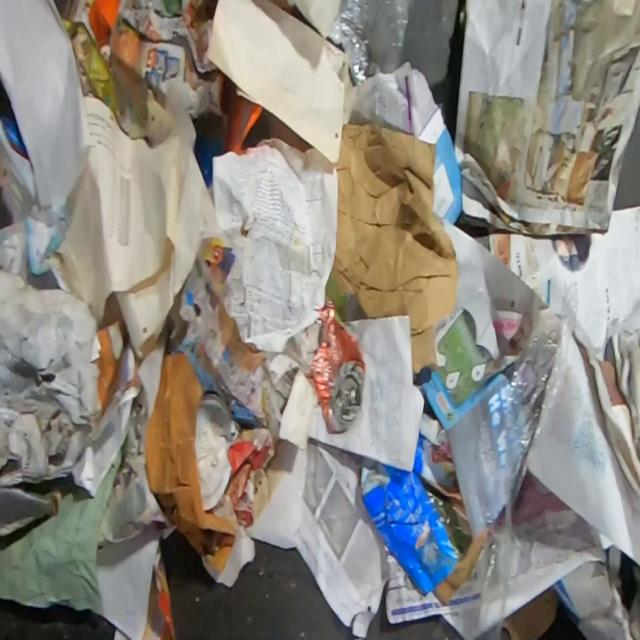cardboard: (330, 119, 460, 374), (359, 454, 464, 598), (224, 422, 283, 527), (434, 526, 489, 608), (220, 74, 264, 157), (246, 109, 314, 154), (504, 585, 559, 640), (86, 0, 122, 55)
metal: (309, 291, 365, 435)
rigid_plastic: (192, 392, 233, 511)
soft_plastic: (428, 275, 580, 640), (325, 0, 414, 84)
